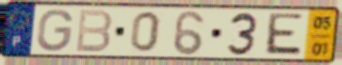0: (129, 9, 163, 54)
3: (225, 10, 259, 57)
6: (171, 9, 206, 57)
B: (73, 8, 114, 54)
E: (262, 11, 305, 58)
G: (35, 8, 75, 53)
